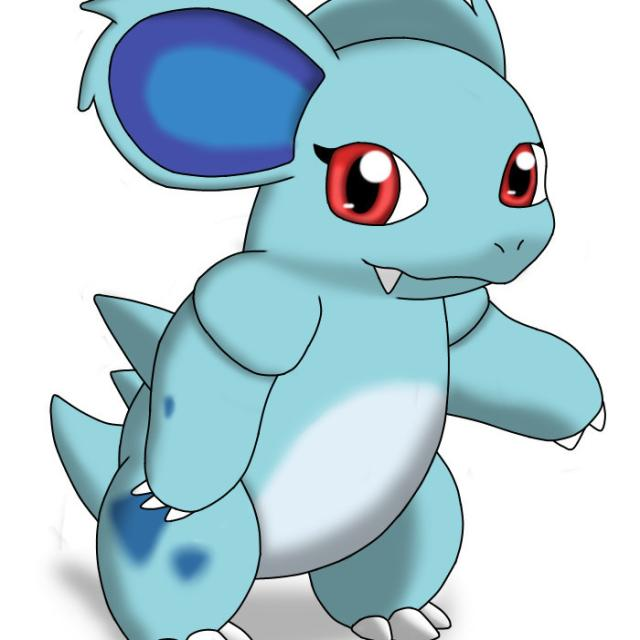Nidorina: (78, 0, 560, 640)
